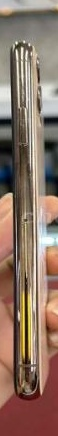scratch: (10, 103, 41, 206)
